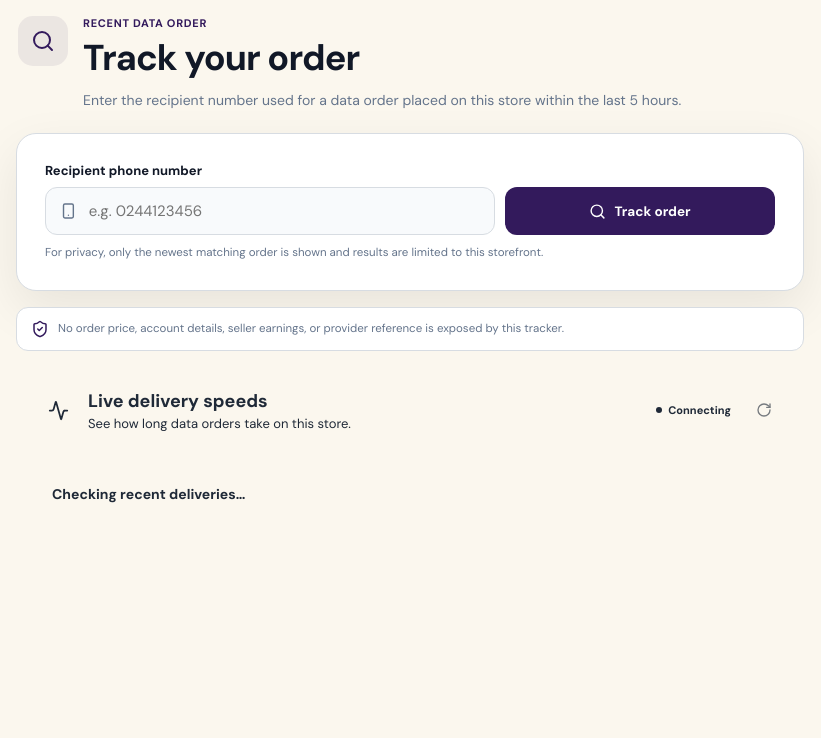
Test: TrackDataOrder › tracks a recent order with the public recipient endpoint
The width and height of the screenshot is (821, 738).
Step 1. Type "+233244123456" into the field labelled "Recipient phone number" → (283, 211), box [87, 200, 480, 222]
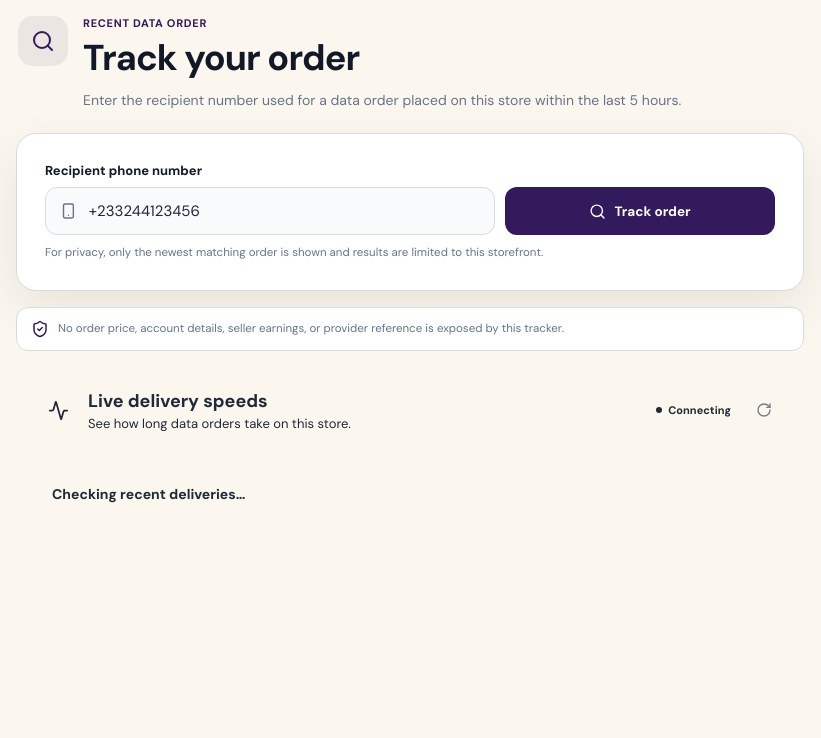
Step 2. Click the button "Track order" → click(640, 211), box [505, 187, 775, 235]
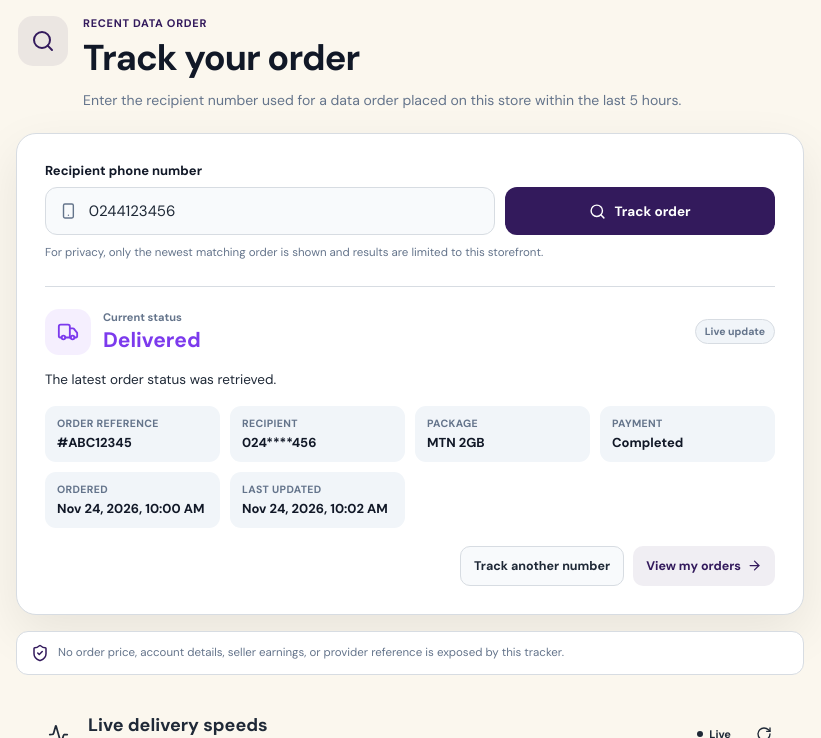
Expected: the heading "Delivered" is shown, [103, 326, 201, 354]
Expected: the text "Live update" is shown, [695, 319, 775, 344]
Expected: the text "#ABC12345" is shown, [57, 434, 132, 451]
